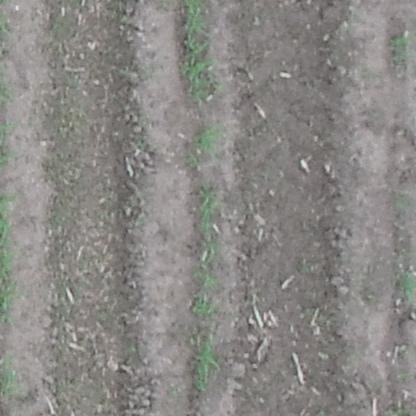corn: (187, 182, 223, 392), (179, 1, 225, 100), (184, 119, 224, 164)
